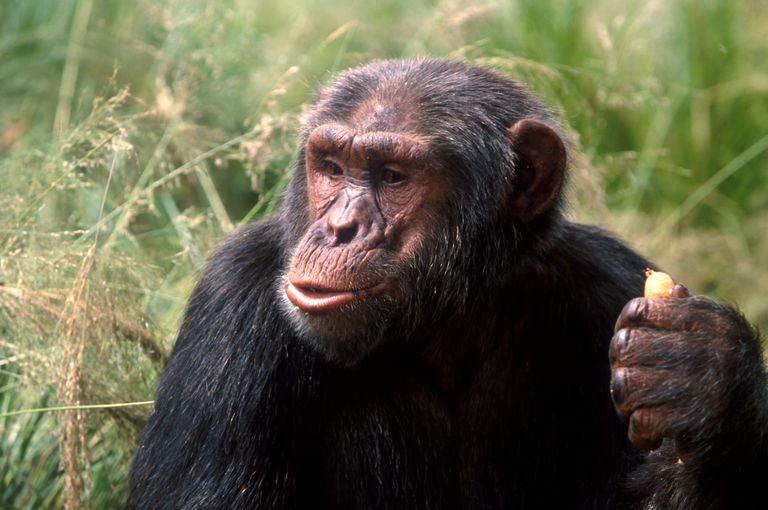Champanze: (184, 54, 739, 508)
